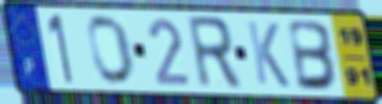1: (46, 12, 76, 86)
2: (146, 16, 192, 87)
B: (286, 18, 341, 93)
K: (244, 19, 292, 90)
O: (86, 13, 137, 88)
R: (184, 14, 245, 92)
